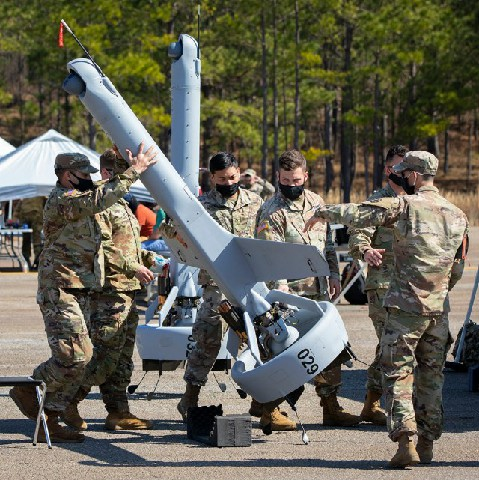maybay_khongnguoilai: (67, 63, 354, 423)
